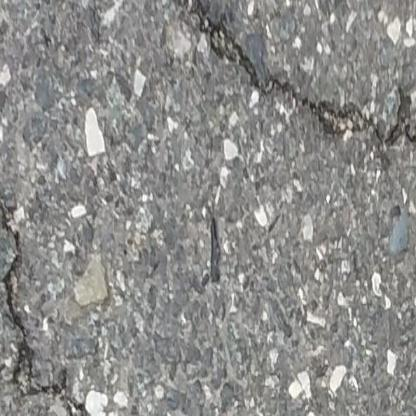Cracks: (162, 0, 416, 148), (0, 137, 101, 416)
